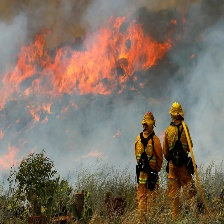fire: (2, 18, 162, 106)
smoke: (9, 113, 224, 181), (179, 12, 223, 123)
